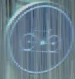bike lane: (3, 5, 71, 65)
